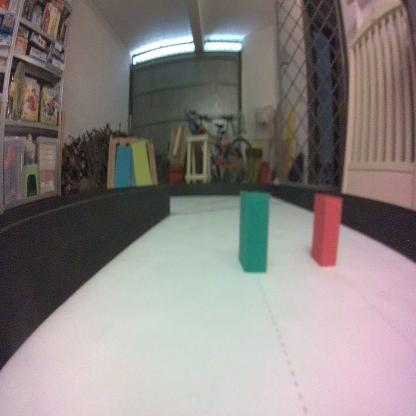green: (238, 187, 269, 274)
red: (309, 190, 342, 264)
